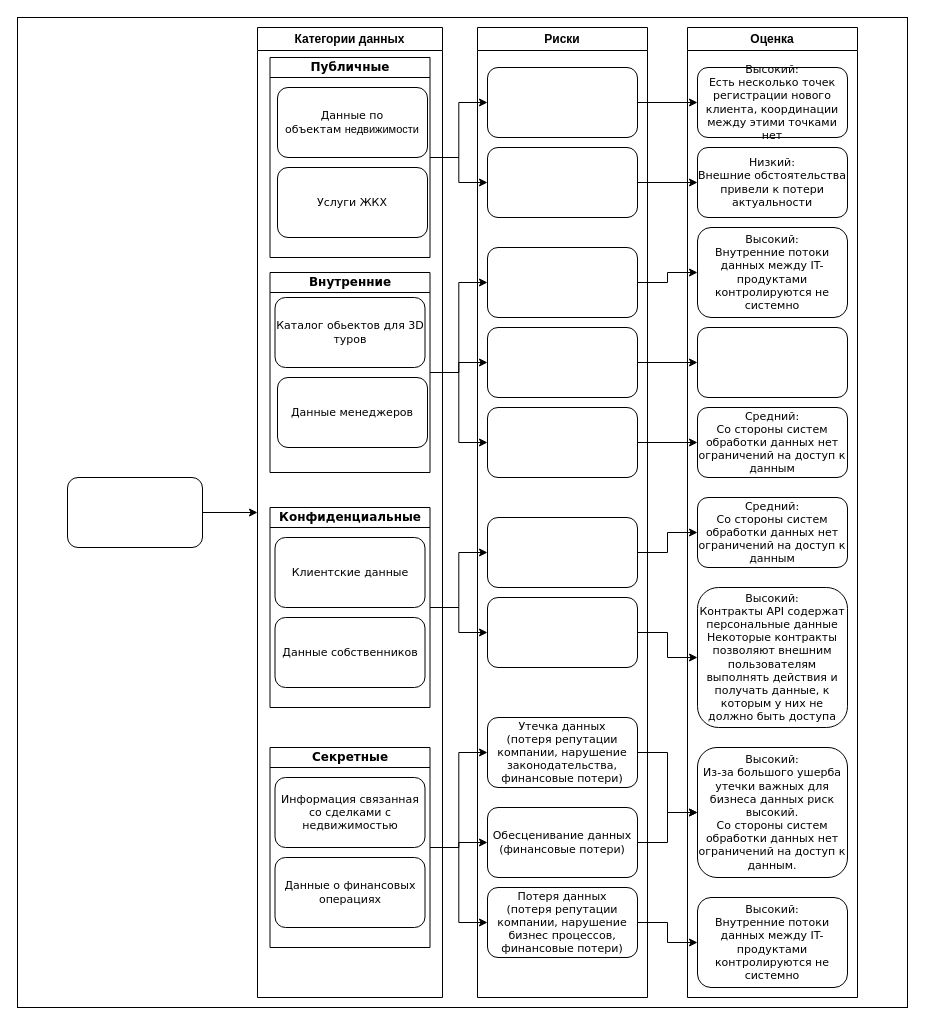
The diagram is 925 pixels wide and 1025 high, and some of its shapes have lost their labels. The centre of each missing label's shape, as x and y in pixels:
"Безопасность данных" belongs at point (134, 512).
"Высокий: Со стороны систем обработки данных нет ограничений на доступ к данным" belongs at point (772, 362).
"Искажение данных (удовлетворённость клиентов)" belongs at point (562, 102).
"Некачественные данные (нарушает бизнесс процесс, простои)" belongs at point (562, 282).
"Обесценивание данных (удовлетворённость клиентов)" belongs at point (562, 182).
"Потеря данных (нарушает бизнесс процесс, простои)" belongs at point (562, 362).
"Потеря данных (потеря репутации компании, нарушение бизнесс процессов)" belongs at point (562, 552).
"Утечка данных (компрометирует безопасность системы, потенциальные эксплоиты)" belongs at point (562, 442).
"Утечка данных (потеря репутации компании, нарушение законодательства)" belongs at point (562, 632).
